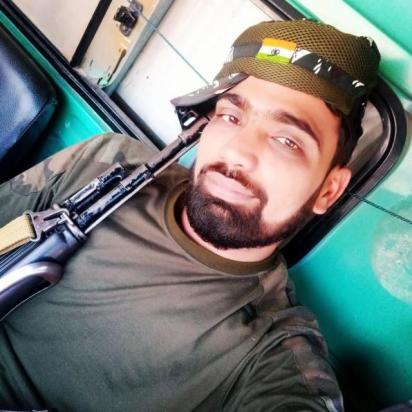Gun: (0, 103, 212, 321)
